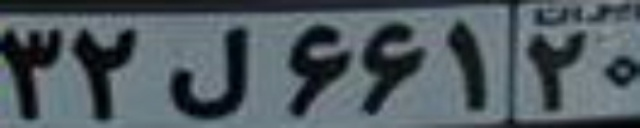0: (598, 52, 638, 87)
1: (440, 18, 486, 110)
2: (73, 25, 142, 122), (526, 28, 583, 112)
3: (1, 24, 66, 120)
6: (357, 22, 426, 116), (282, 23, 349, 119)
lam: (161, 25, 257, 119)
